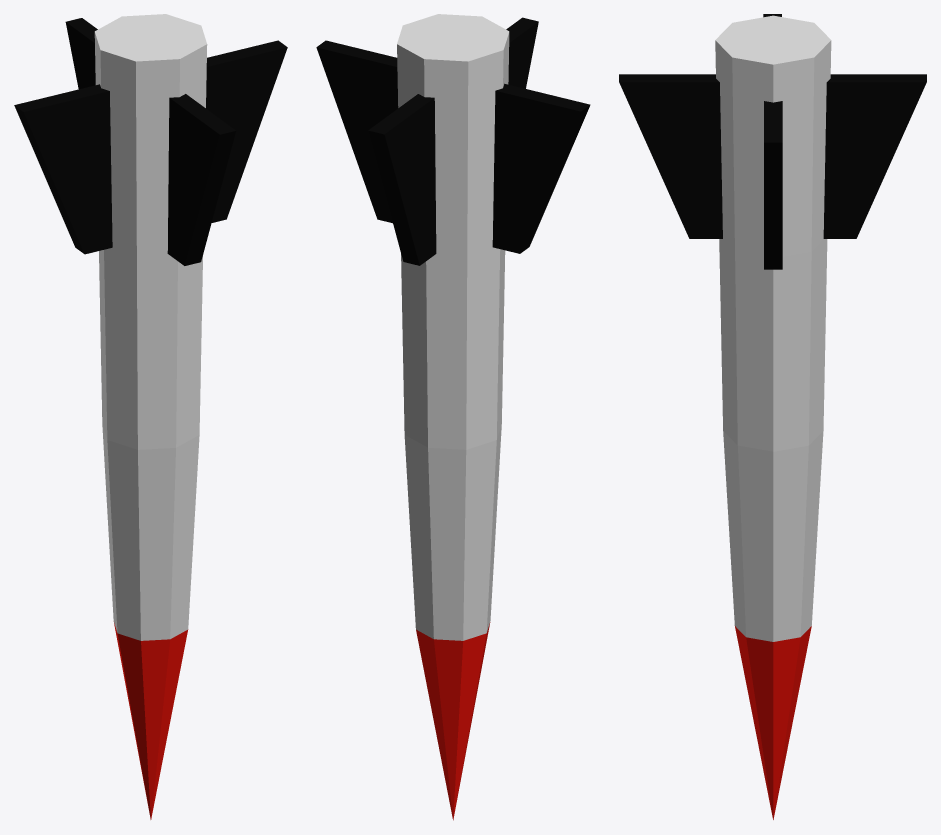
File: Rocket.fbx
3 renders of one model, left to right at view 1: azimuth 30°, elevation 25°; view 2: azimuth 150°, elevation 25°; view 3: azimuth 270°, elevation 25°, orthographic.
Visible parts, largest first — view 1: Cube.002; view 2: Cube.002; view 3: Cube.002.
Part boxes in pixels (bbox=[...]): Cube.002: bbox=[14, 14, 287, 819]; Cube.002: bbox=[316, 14, 590, 820]; Cube.002: bbox=[619, 14, 926, 819].
Size of the model in its own units: 524 by 1484 by 530.
